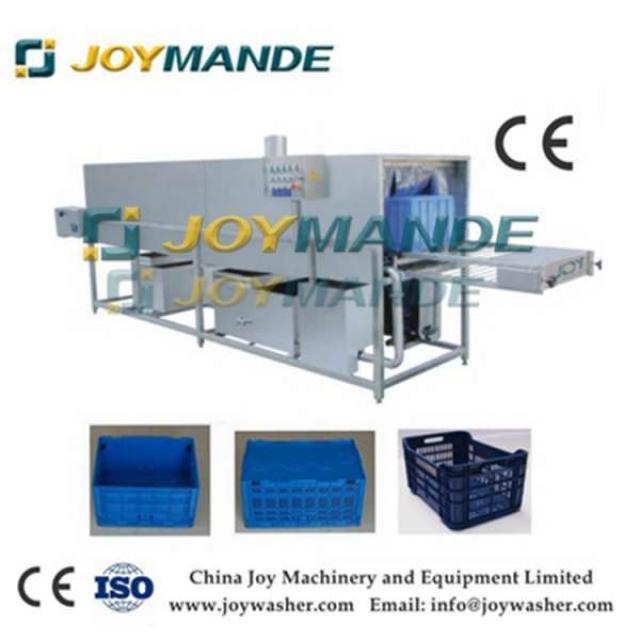basket: (403, 423, 537, 537), (242, 479, 365, 529), (94, 438, 199, 488), (242, 440, 365, 482), (93, 488, 197, 528)
